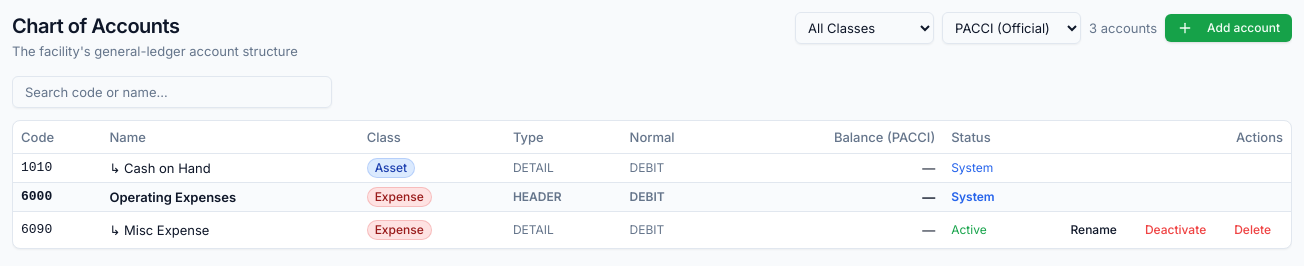
Scenario: ChartOfAccountsPage — owner management › filters the table by code or name
Expected: the text "↳ Misc Expense" is shown, [102,211,359,248]
Type "cash" into the field named "search accounts" at (172, 92), box [12,76,332,108]
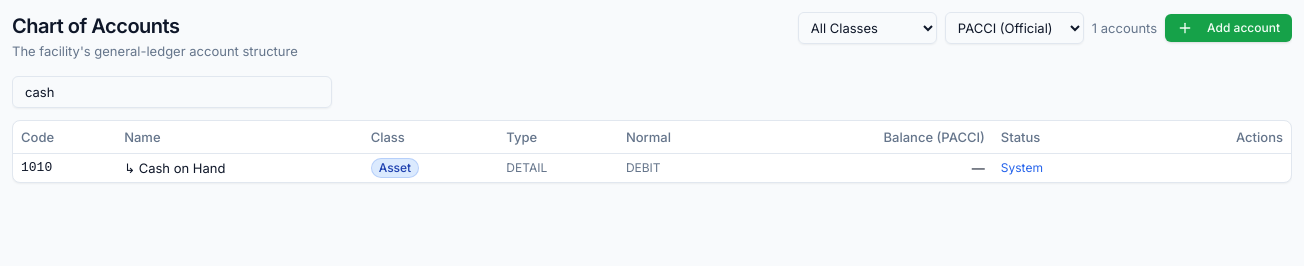
Expected: the text "↳ Cash on Hand" is shown, [116,153,363,182]
Expected: the text "Misc Expense" is gone
Replace the text in the field named "search accounts" with "6090" at (172, 92), box [12,76,332,108]
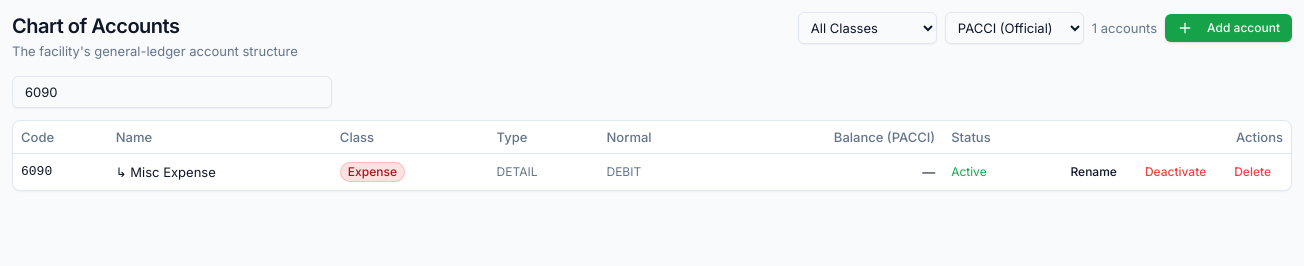
Expected: the text "↳ Misc Expense" is shown, [108,153,332,190]
Expected: the text "Cash on Hand" is gone
